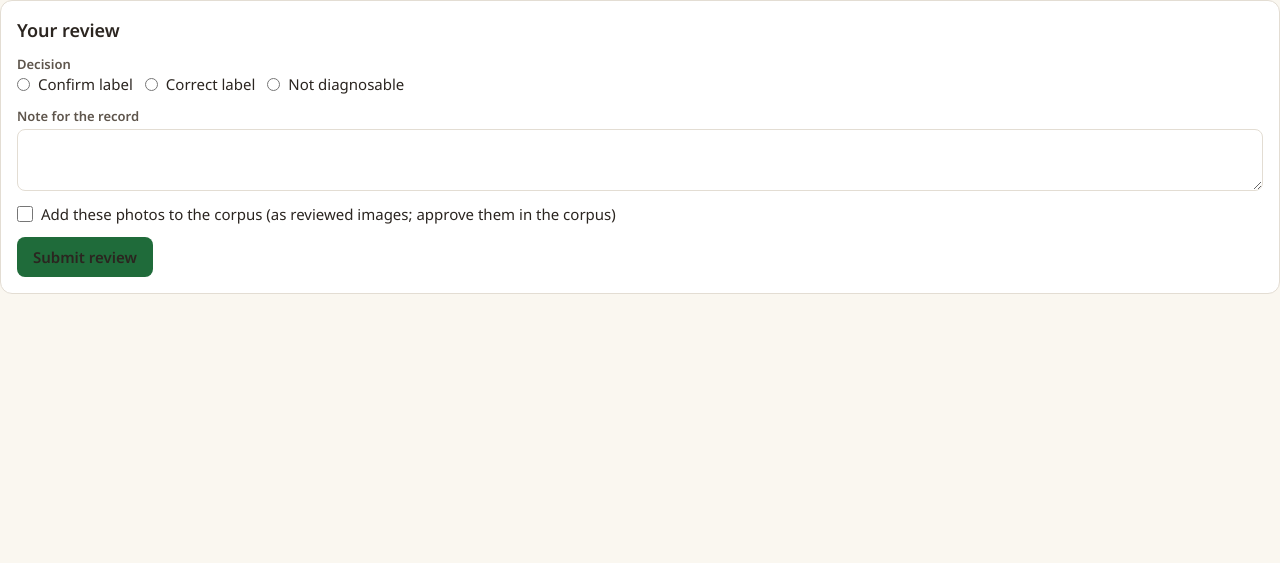
Scenario: C60 review form validation › refuses to 'correct' to the current label
Click the radio button labelled "Correct label" at (151, 84), box [145, 78, 158, 90]
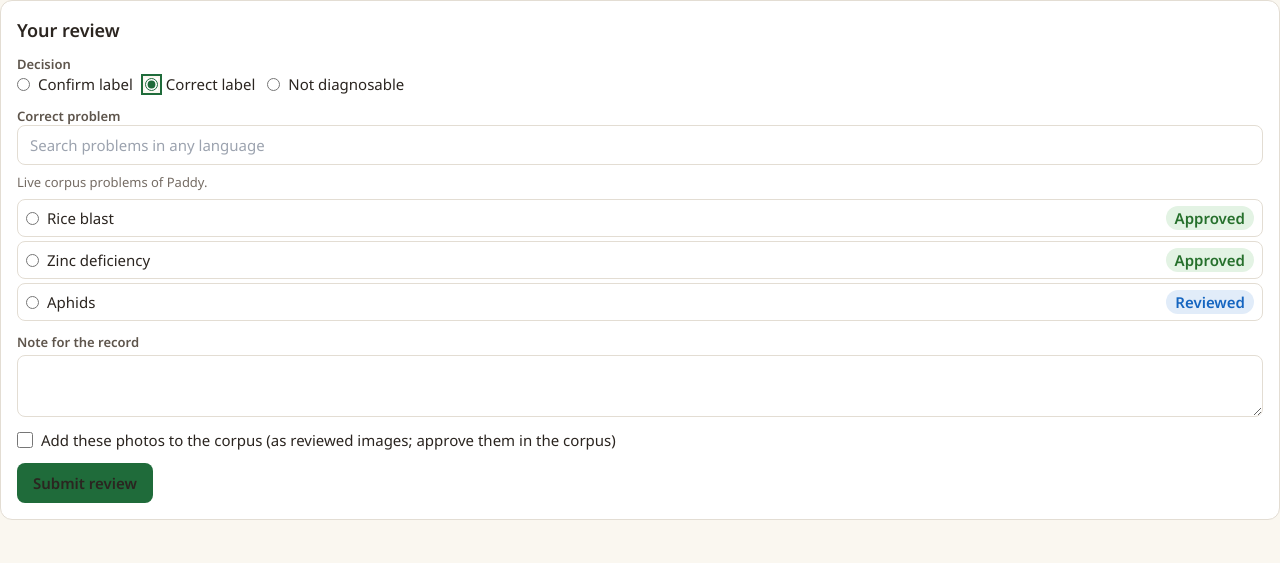
Click the radio button labelled "Rice blast Approved" at (32, 218), box [26, 212, 39, 224]
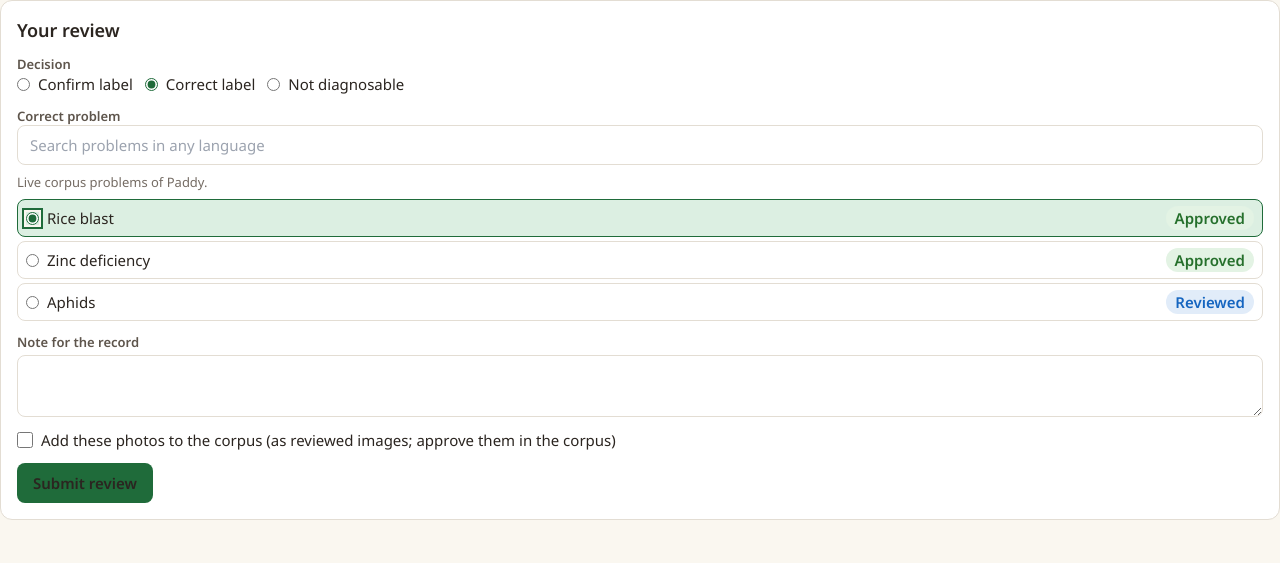
Type "x" into the text box labelled "Note for the record" at (640, 386), box [17, 355, 1263, 417]
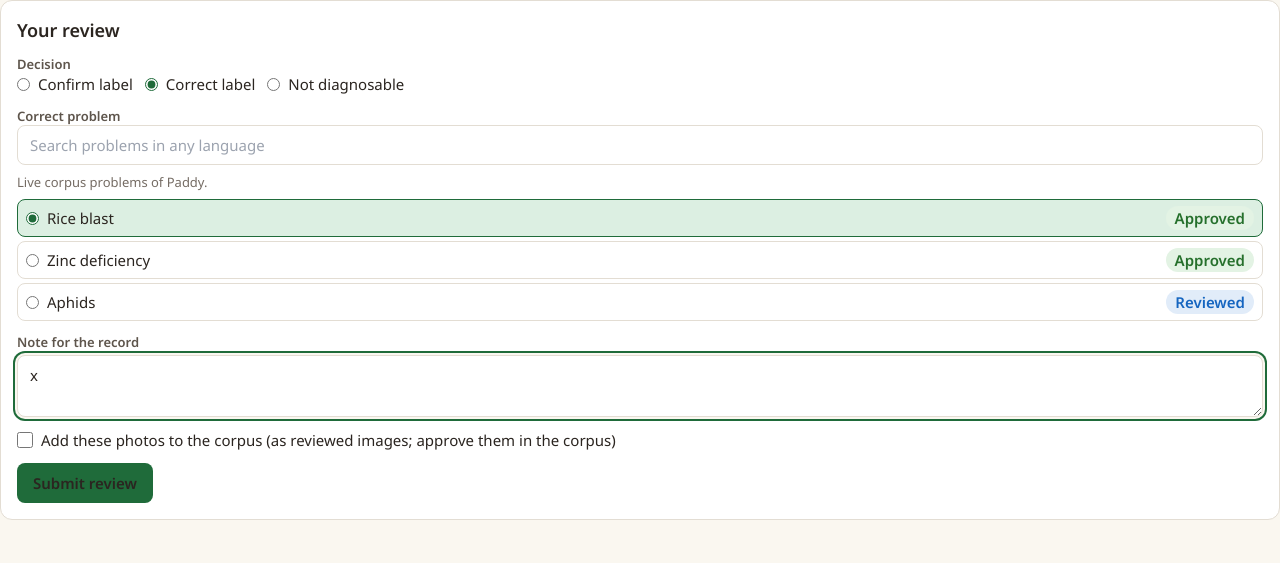
Click the button "Submit review" at (85, 483), box [17, 463, 153, 503]
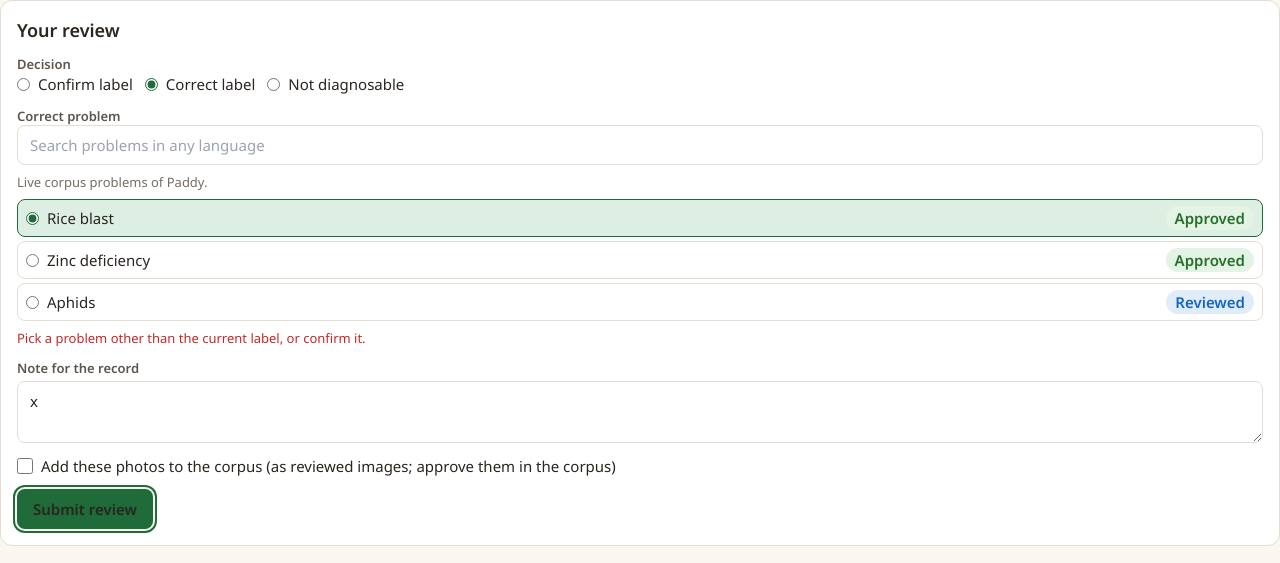
Now the text "Pick a problem other than the current label, or confirm it." is shown, box [17, 329, 366, 347]
